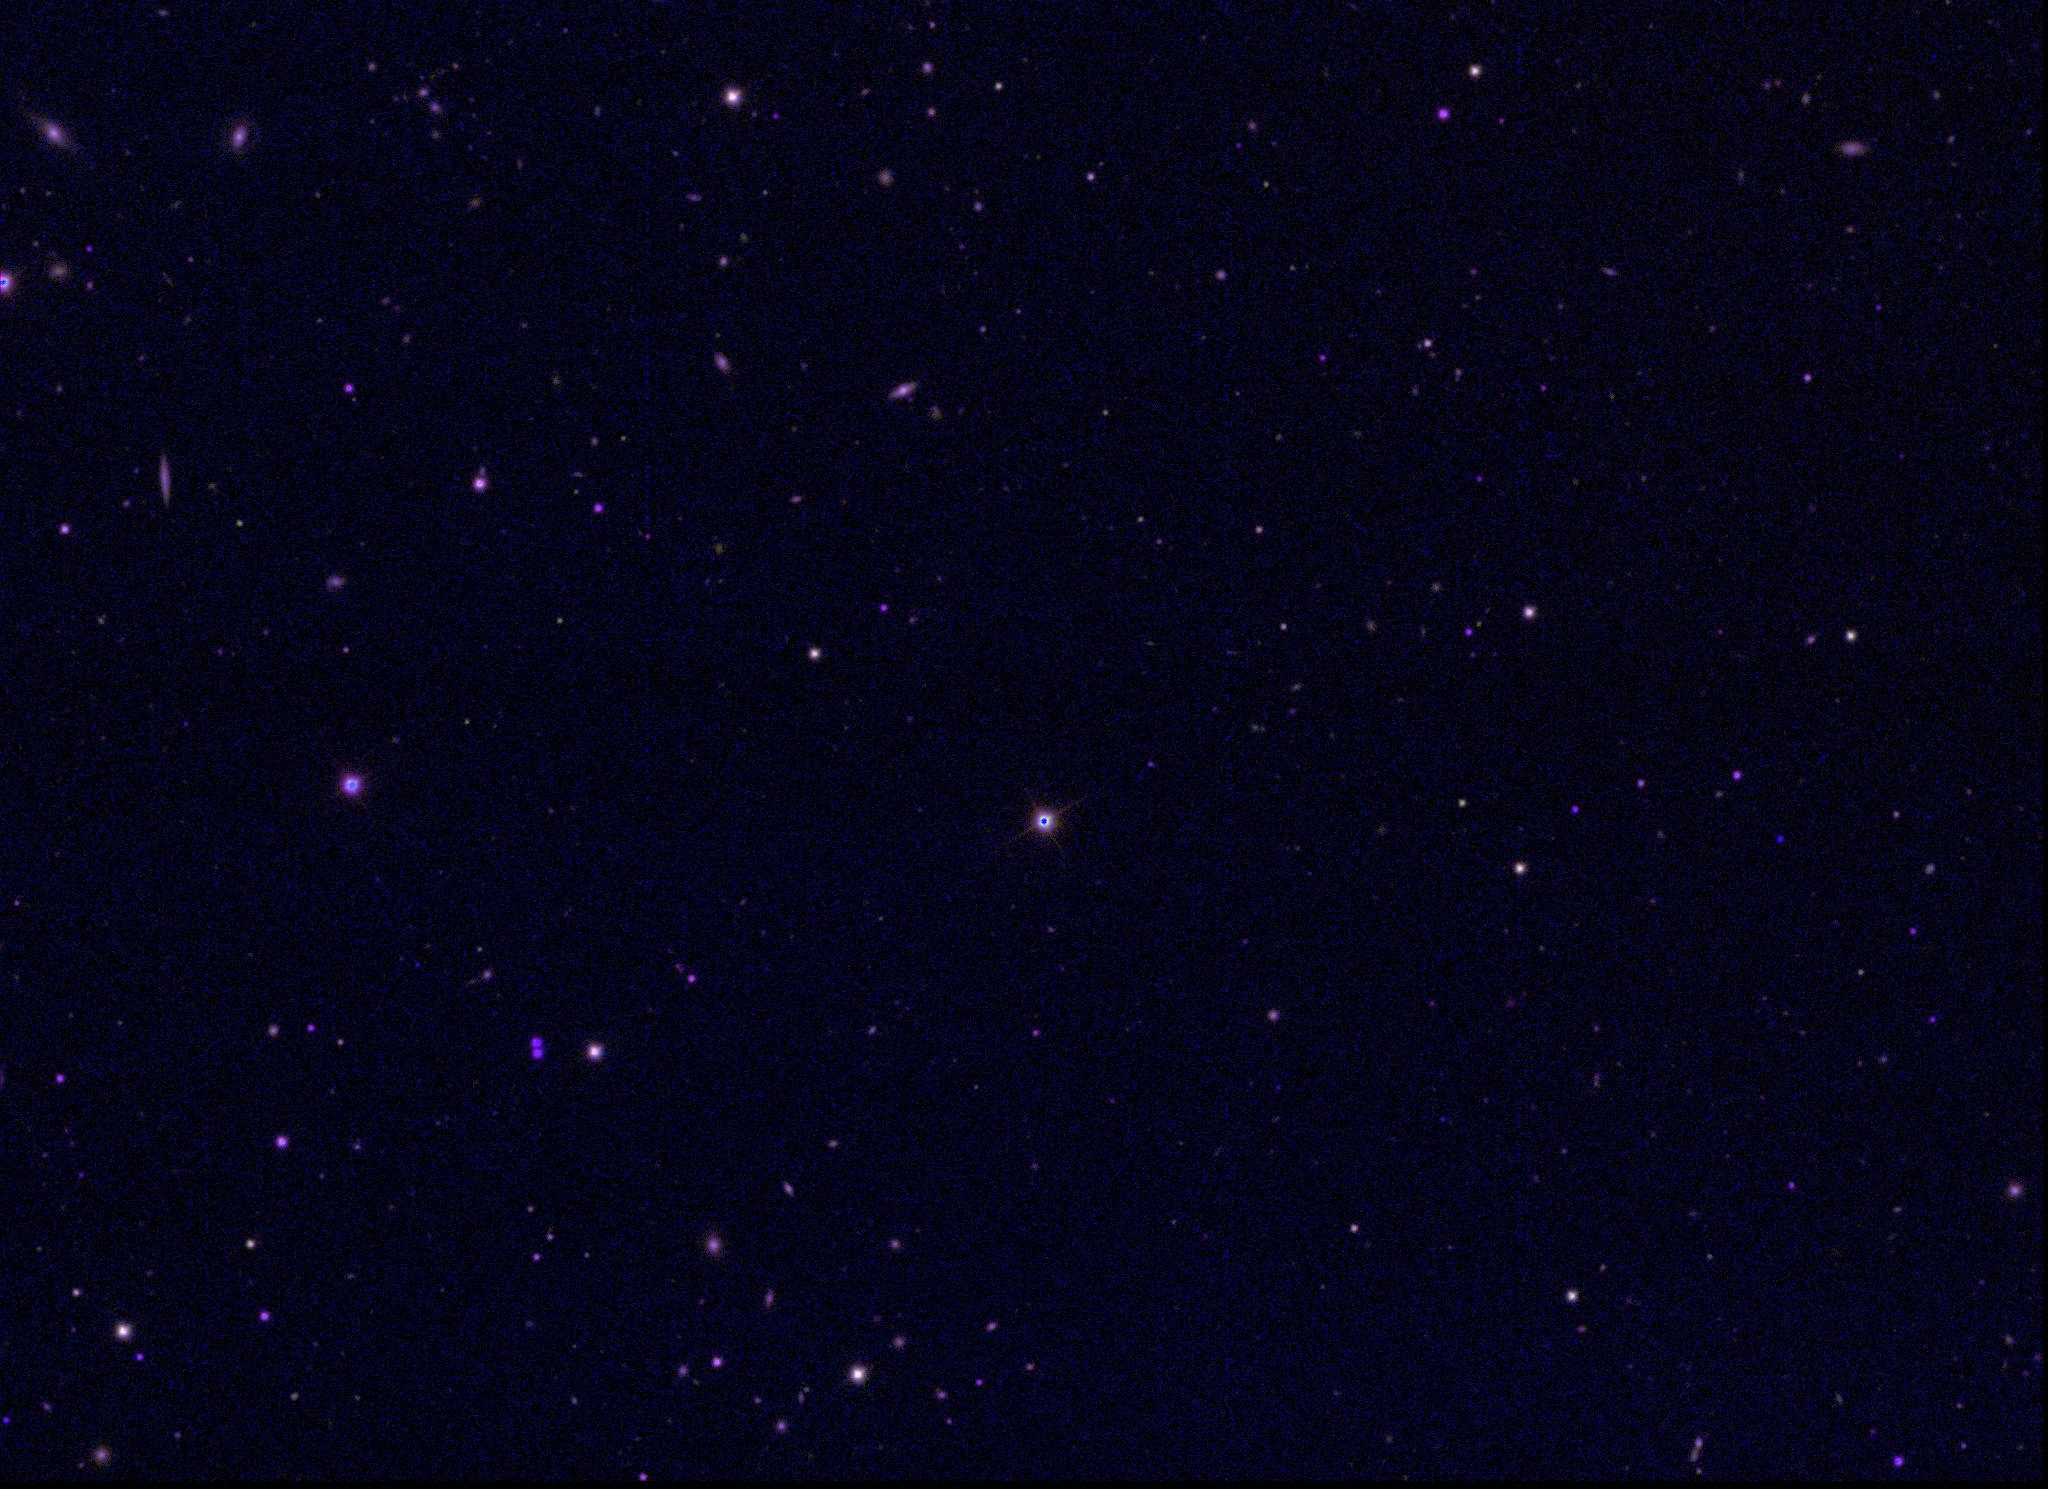L: (1771, 829, 1786, 843)
